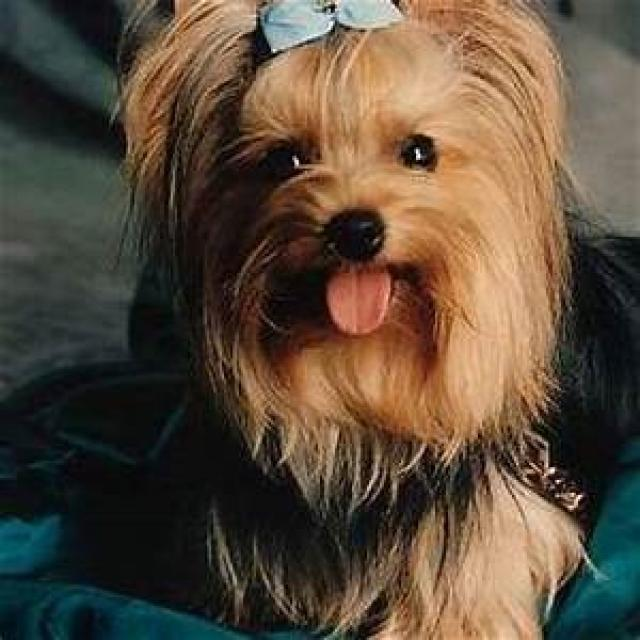animal: (122, 0, 582, 640)
